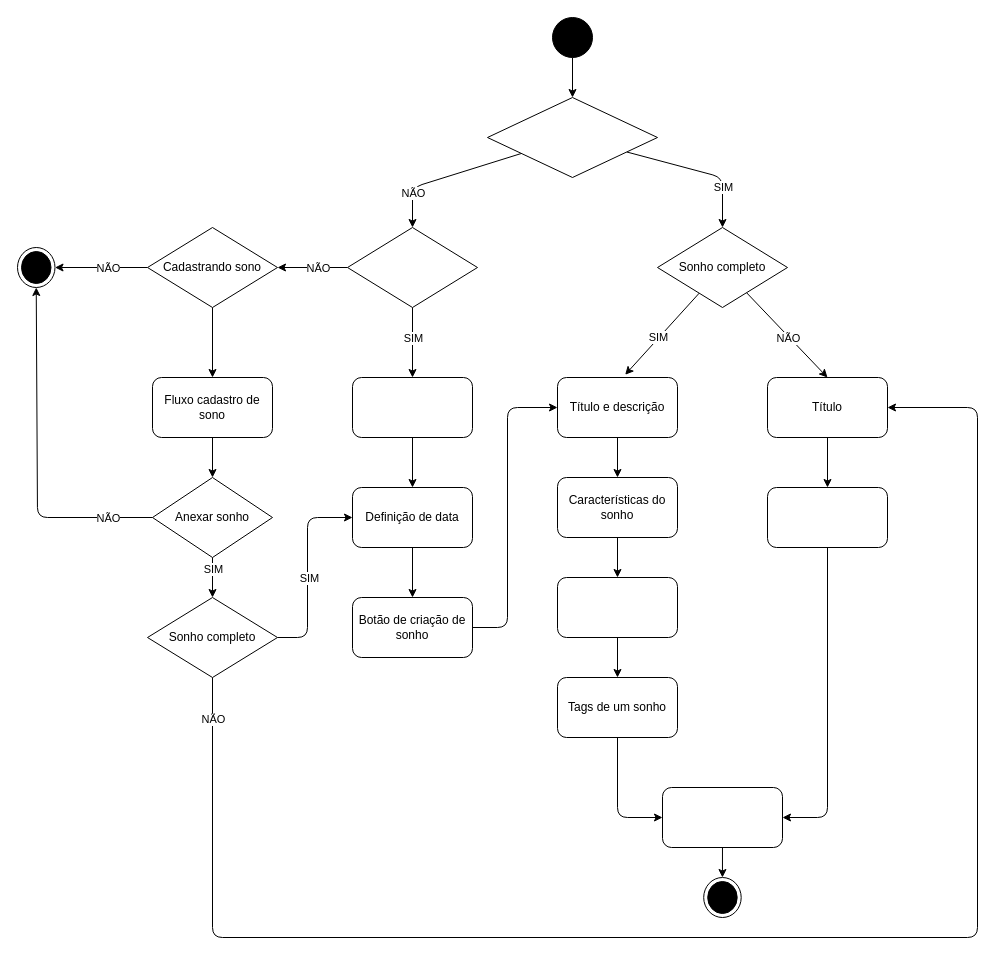
This 1003x963 diagram has some shape labels left out. Each missing label, with the centre of its shape:
Botão de anexação de sonho: the point at 412,407
Cadastrando sonho: the point at 572,137
Editando sono: the point at 412,267
Gravação do áudio do sonho: the point at 827,517
Informações gerais do sonho: the point at 617,607
Salvar sonho: the point at 722,817
